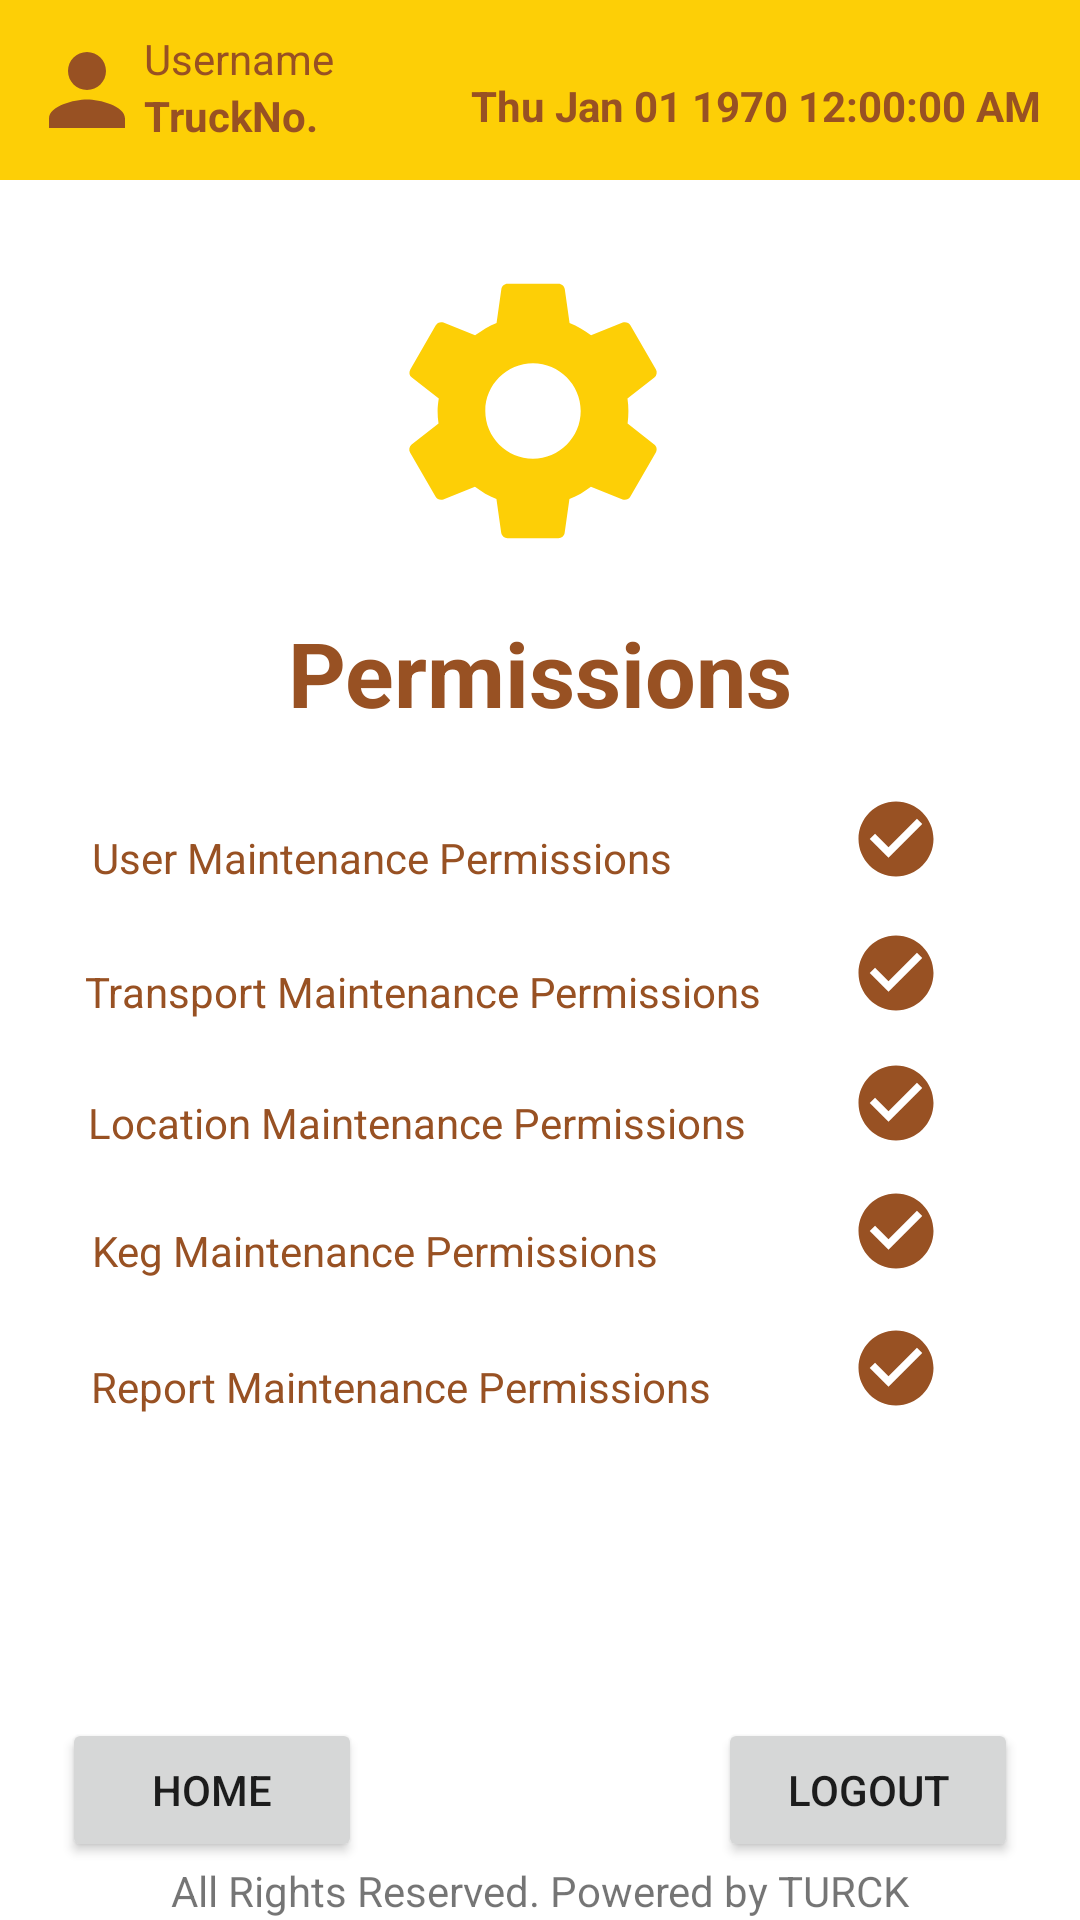

Icon click points for this 1080x1920 phone screenshot, format (x,y):
check circle: (896,839), (896,973), (896,1103), (896,1231), (896,1368)
person: (87,90)
settings: (533,411)
